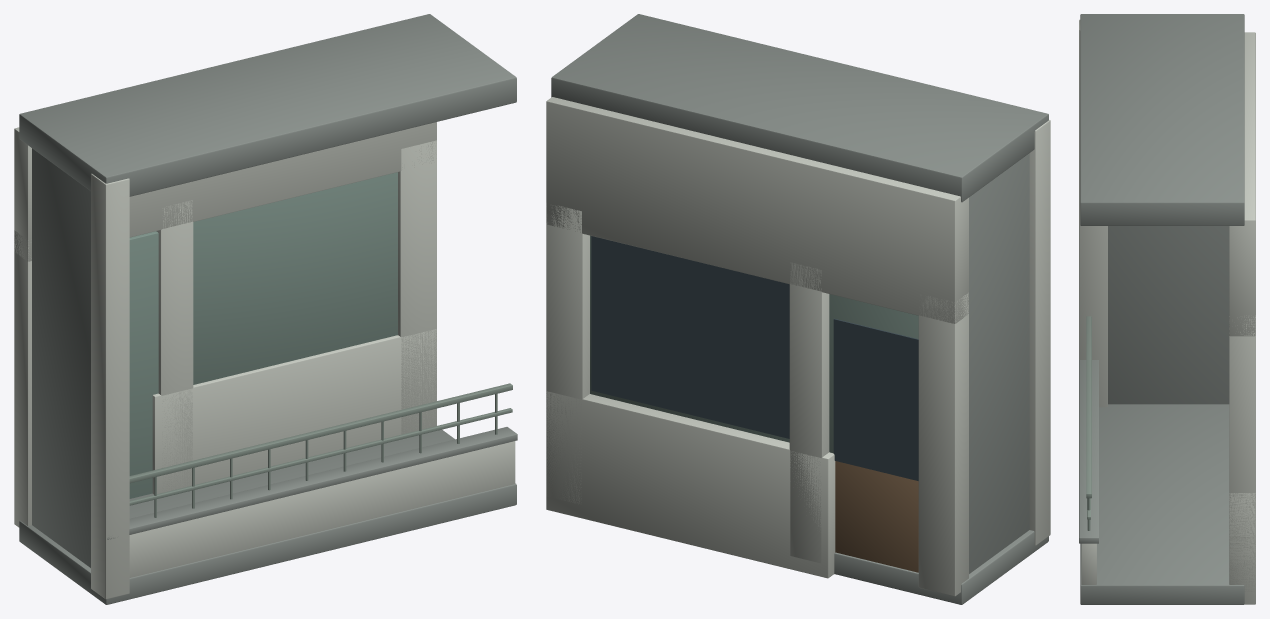
File: CTCC_ENV_WardBalconyBay_2004.fbx
The picture shows the model from 3 angles, left to right: view 1: azimuth 30°, elevation 25°; view 2: azimuth 150°, elevation 25°; view 3: azimuth 270°, elevation 25°; orthographic projection. The views are drawn at different scales.
Parts seen in each view (by area): view 1: CTCC_ENV_WardBalconyBay_2004_LOD0; view 2: CTCC_ENV_WardBalconyBay_2004_LOD0; view 3: CTCC_ENV_WardBalconyBay_2004_LOD0.
Boxes of the visible parts, x1,y1,x2,y2 form: CTCC_ENV_WardBalconyBay_2004_LOD0: [14, 14, 517, 604]; CTCC_ENV_WardBalconyBay_2004_LOD0: [546, 14, 1050, 604]; CTCC_ENV_WardBalconyBay_2004_LOD0: [1079, 14, 1255, 604].
Size of what is drawn, in the model's own units: 4.03 by 4 by 1.59.
